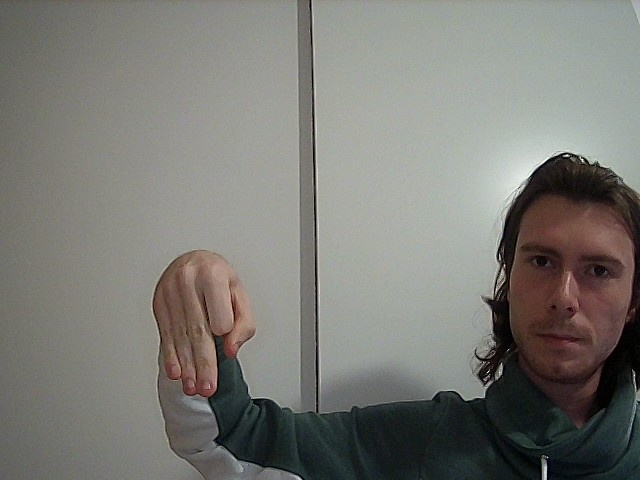m: (129, 245, 268, 403)
